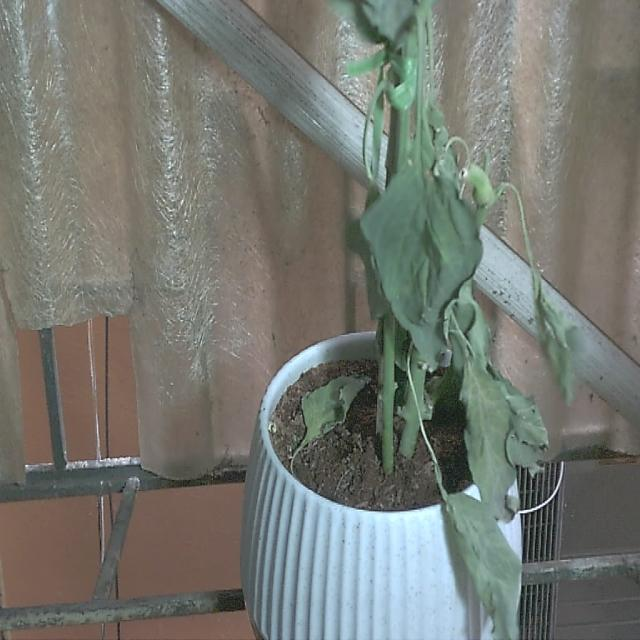Leaf: (364, 158, 483, 368), (444, 491, 525, 640), (458, 351, 520, 524)
